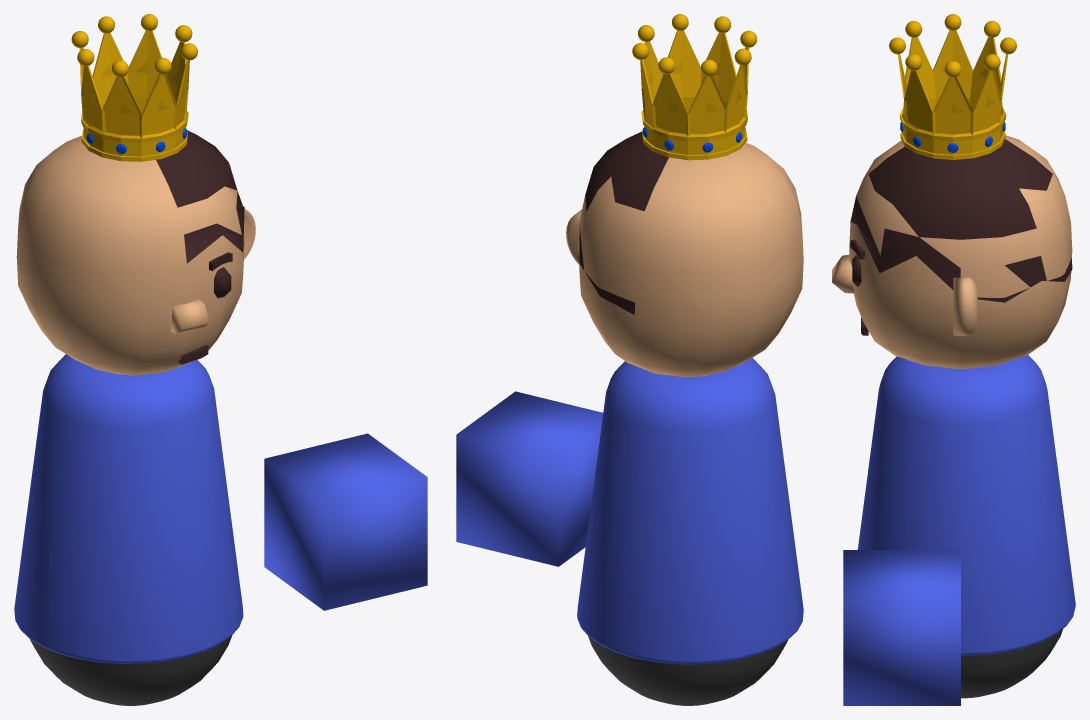
File: mii-crown.glb
The picture shows the model from 3 angles, left to right: view 1: azimuth 30°, elevation 25°; view 2: azimuth 150°, elevation 25°; view 3: azimuth 270°, elevation 25°; orthographic projection.
Parts seen in each view (by area): view 1: 円, head, hand, 円.001, 球, hair, 球.002, nose; view 2: 円, head, hand, 円.001, 球, hair, 球.002; view 3: 円, head, hand, hair, 円.001, 球, 球.002, ear, nose.
Boxes of the visible parts, x1,y1,x2,y2 form: 円: (14, 354, 243, 663); head: (16, 135, 244, 375); hand: (264, 433, 427, 610); 円.001: (79, 30, 189, 161); 球: (30, 635, 232, 705); hair: (156, 130, 244, 263); 球.002: (71, 14, 197, 77); nose: (171, 299, 209, 334); 円: (577, 358, 803, 664); head: (578, 143, 803, 377); hand: (456, 391, 603, 566); 円.001: (640, 30, 749, 160); 球: (588, 636, 787, 705); hair: (578, 131, 668, 314); 球.002: (632, 14, 757, 76); 円: (857, 355, 1075, 655); head: (849, 135, 1072, 369); hand: (843, 550, 960, 705); hair: (850, 139, 1072, 302); 円.001: (897, 30, 1008, 159); 球: (961, 629, 1062, 698); 球.002: (889, 14, 1016, 77); ear: (953, 277, 977, 335); nose: (832, 254, 854, 293).
Size of the model in its own units: 1.12 by 2.1 by 0.7128.
